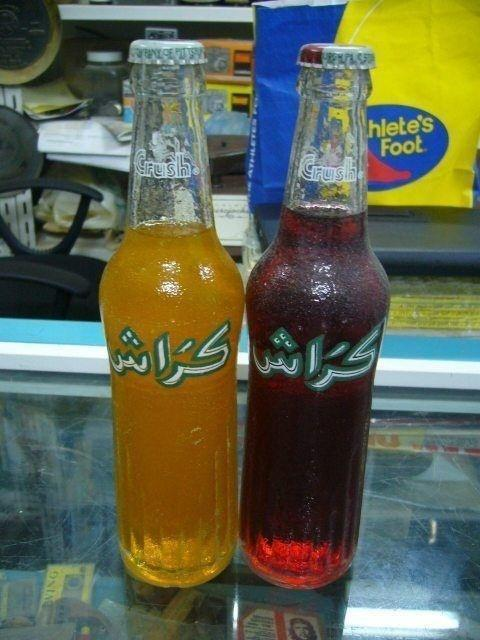bottle-glass: (240, 38, 393, 594), (96, 34, 246, 594)
